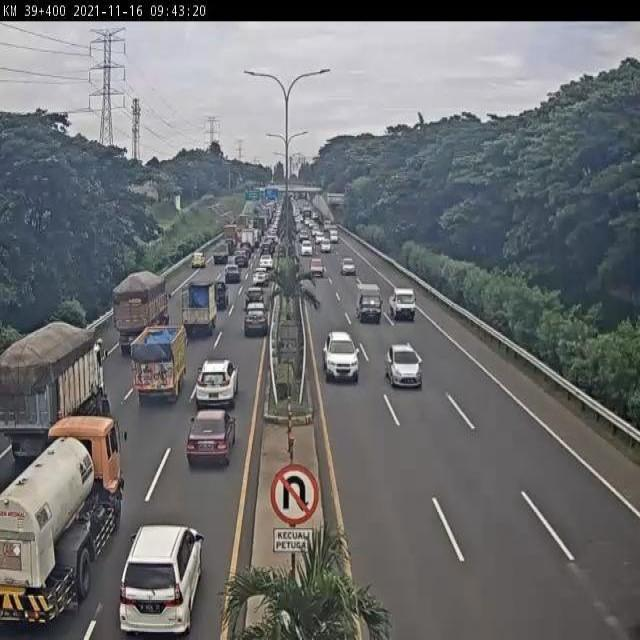Car: (119, 524, 204, 636), (186, 408, 237, 468), (194, 357, 238, 409), (323, 329, 361, 383), (386, 342, 422, 389), (244, 302, 268, 338), (245, 286, 264, 308), (224, 262, 241, 284), (253, 268, 268, 288), (310, 257, 324, 278), (341, 258, 356, 276), (192, 251, 206, 269), (234, 251, 248, 268), (260, 255, 274, 272), (300, 239, 313, 256), (258, 242, 272, 256), (298, 229, 310, 244), (328, 228, 338, 244), (320, 240, 332, 253), (276, 242, 286, 256), (315, 232, 325, 245), (310, 224, 320, 236)
Truck: (0, 412, 129, 624), (0, 319, 111, 464), (112, 270, 169, 358), (129, 323, 188, 404), (180, 280, 218, 342), (356, 282, 382, 323), (388, 286, 417, 322), (235, 214, 253, 240), (224, 222, 239, 252), (215, 280, 229, 312), (212, 243, 229, 266), (240, 226, 255, 252), (253, 215, 266, 233)
